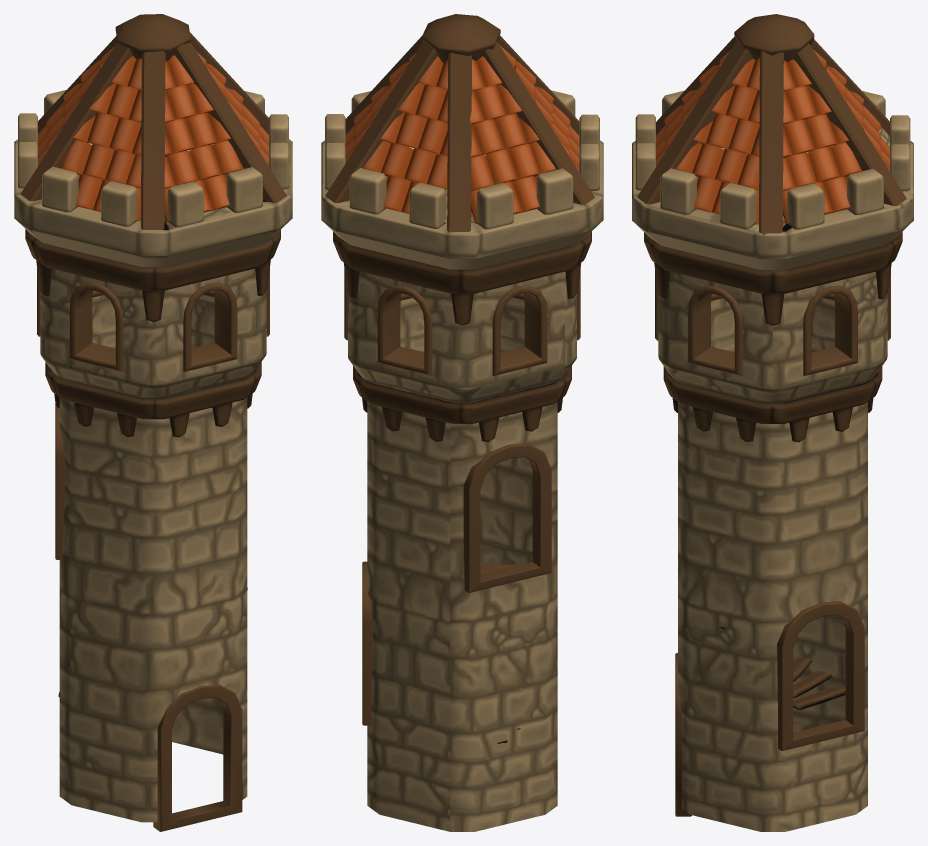
File: turretTower_model.glb
The picture shows the model from 3 angles, left to right: view 1: azimuth 30°, elevation 25°; view 2: azimuth 150°, elevation 25°; view 3: azimuth 270°, elevation 25°; orthographic projection.
Visible parts, largest first — view 1: turretTower_t4; view 2: turretTower_t4; view 3: turretTower_t4.
Part boxes in pixels (x1,y1,x2,y2): turretTower_t4: [14, 14, 292, 831]; turretTower_t4: [321, 14, 603, 831]; turretTower_t4: [632, 14, 913, 831].
Size of what is drawn, in the model's own units: 6.02 by 16.67 by 5.48.
Materials: 1 (1 with a texture image).
